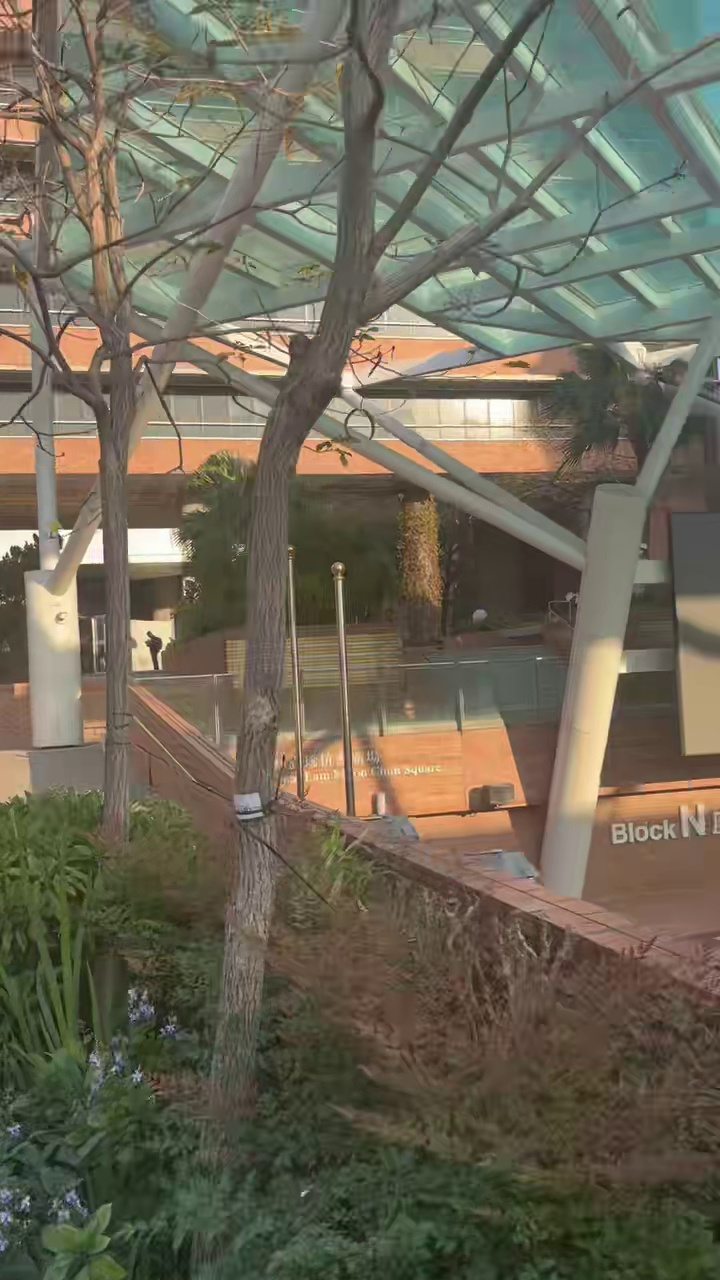Tabebuia chrysantha: (205, 0, 564, 1154)
